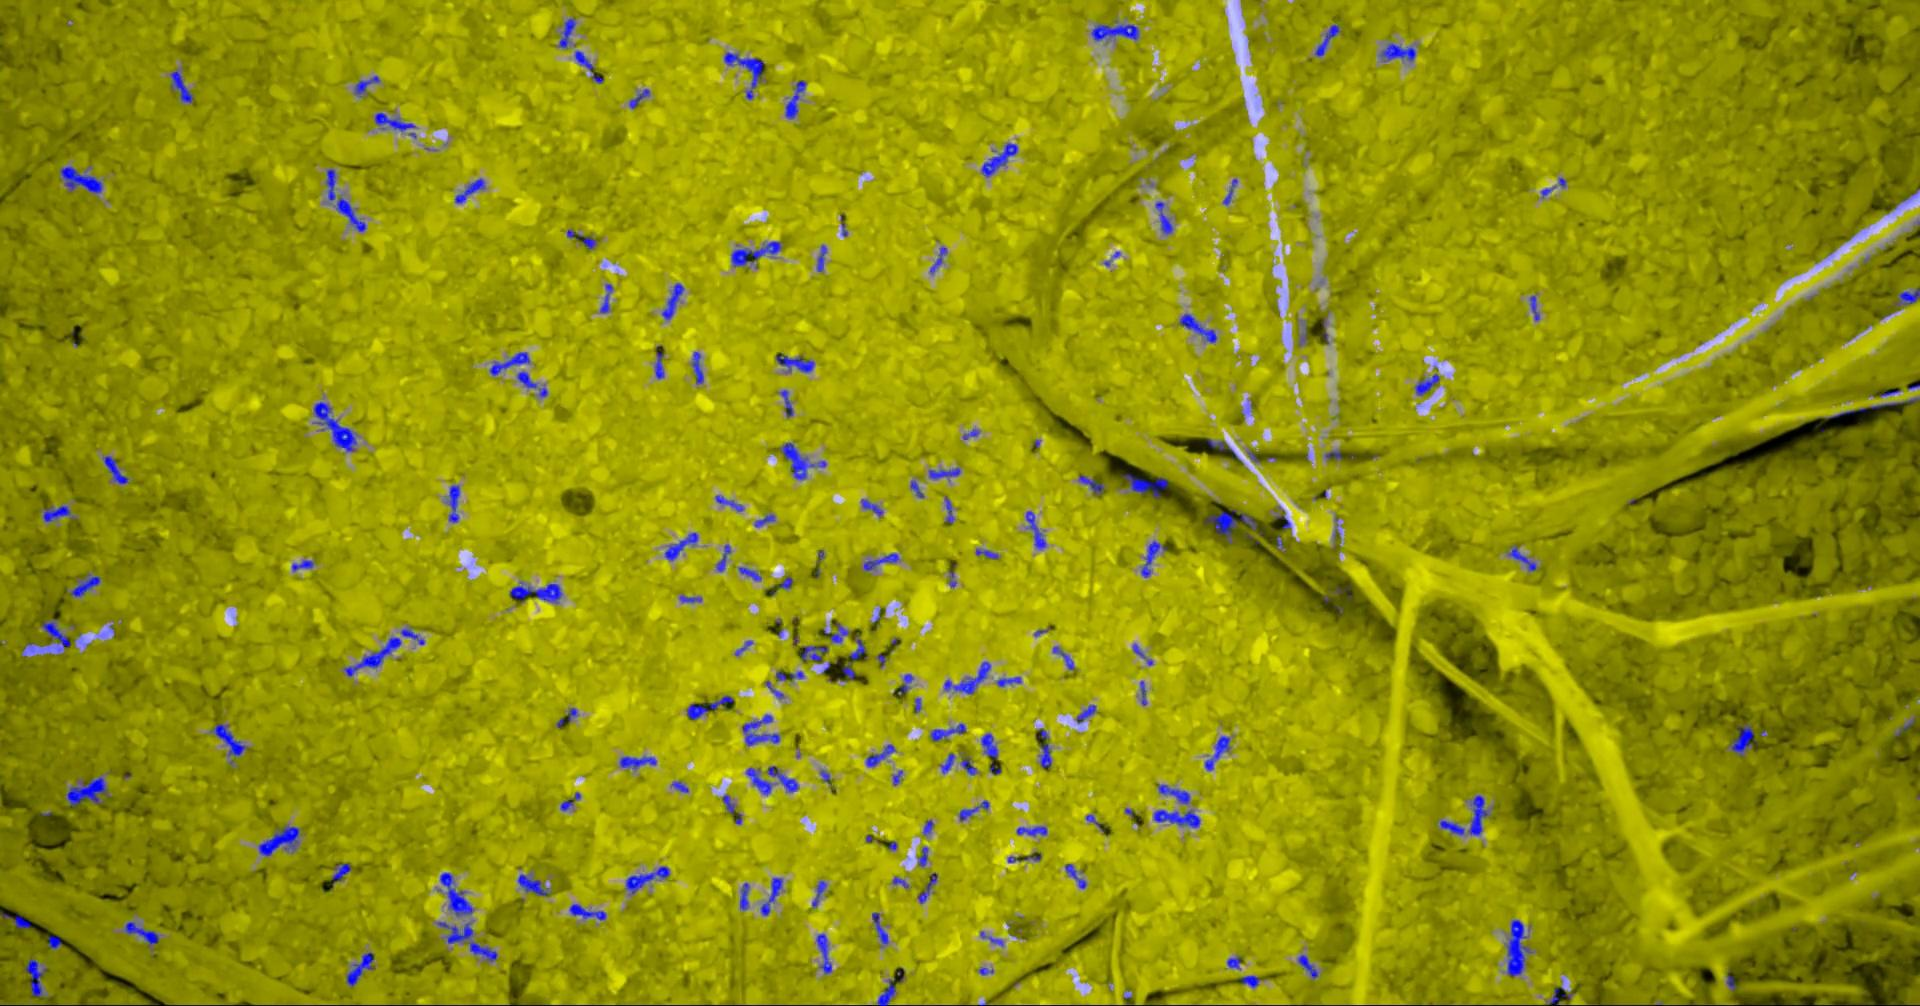ant: (437, 921, 497, 962), (326, 168, 364, 231), (343, 636, 400, 676), (312, 401, 356, 451), (723, 52, 763, 99), (1204, 509, 1256, 542), (780, 442, 825, 479), (943, 661, 990, 694), (1506, 920, 1531, 976), (439, 873, 472, 915), (982, 142, 1017, 177), (66, 776, 105, 807), (730, 241, 780, 265), (258, 826, 298, 855), (841, 635, 867, 680), (625, 866, 669, 893), (742, 714, 778, 746), (58, 166, 102, 193), (686, 695, 733, 719), (1178, 312, 1217, 342), (1121, 473, 1167, 497), (211, 723, 245, 754), (509, 582, 561, 602), (489, 351, 530, 375), (574, 50, 603, 83), (1140, 540, 1166, 577), (664, 532, 697, 560), (345, 951, 372, 986), (1091, 20, 1138, 39), (766, 765, 797, 793), (1204, 735, 1229, 770), (759, 876, 782, 915), (124, 921, 157, 946), (1153, 809, 1200, 827), (41, 619, 70, 647), (1314, 24, 1340, 56), (775, 352, 814, 372), (662, 282, 683, 319), (1730, 725, 1756, 754), (785, 80, 805, 118), (375, 112, 415, 131), (25, 958, 46, 996), (1468, 795, 1487, 835), (1025, 511, 1045, 547), (455, 178, 484, 203), (1206, 438, 1239, 460), (1509, 545, 1535, 572), (103, 455, 128, 483), (70, 573, 100, 596), (170, 70, 192, 102), (517, 874, 549, 895), (745, 767, 771, 794), (930, 723, 965, 741), (865, 744, 894, 766), (917, 873, 937, 903), (1380, 43, 1415, 61), (863, 553, 898, 570), (569, 903, 606, 920), (1157, 784, 1189, 803), (1867, 398, 1919, 409), (959, 800, 988, 821), (723, 794, 742, 824), (566, 229, 596, 248), (817, 934, 830, 973), (1064, 862, 1086, 888), (557, 18, 575, 48), (1823, 406, 1865, 419), (1037, 729, 1051, 767), (1156, 201, 1172, 232), (1051, 647, 1074, 669), (354, 75, 378, 97), (1415, 373, 1439, 395), (1297, 954, 1318, 978), (823, 621, 848, 641), (0, 912, 30, 929), (871, 912, 888, 942), (1078, 474, 1103, 493), (618, 756, 657, 768), (877, 978, 895, 1005), (1547, 987, 1573, 1005), (930, 246, 946, 273), (42, 506, 70, 521), (715, 544, 730, 572), (799, 645, 827, 661), (691, 351, 703, 384), (980, 733, 997, 758), (629, 88, 649, 108), (331, 862, 350, 884), (1222, 178, 1237, 205), (1896, 287, 1919, 305), (715, 495, 742, 511), (400, 627, 424, 644), (811, 880, 825, 908), (556, 708, 577, 727), (448, 485, 458, 522), (599, 283, 612, 312), (860, 498, 881, 514), (780, 389, 792, 417), (1439, 821, 1464, 835), (1076, 704, 1095, 721), (516, 371, 536, 387), (928, 467, 959, 478), (738, 567, 759, 580), (654, 345, 663, 379), (897, 674, 912, 694), (940, 753, 954, 774), (739, 882, 749, 909), (291, 559, 312, 572), (1016, 826, 1046, 835), (1529, 295, 1539, 320), (775, 671, 803, 680), (996, 676, 1020, 686), (817, 244, 825, 271), (943, 497, 952, 523), (754, 514, 775, 526), (975, 547, 998, 558), (961, 758, 977, 774), (1239, 976, 1258, 987), (910, 480, 923, 497), (917, 846, 927, 866), (670, 781, 688, 793), (47, 934, 61, 948), (777, 575, 792, 588), (1225, 956, 1239, 969), (679, 594, 701, 602), (1324, 450, 1341, 459)
